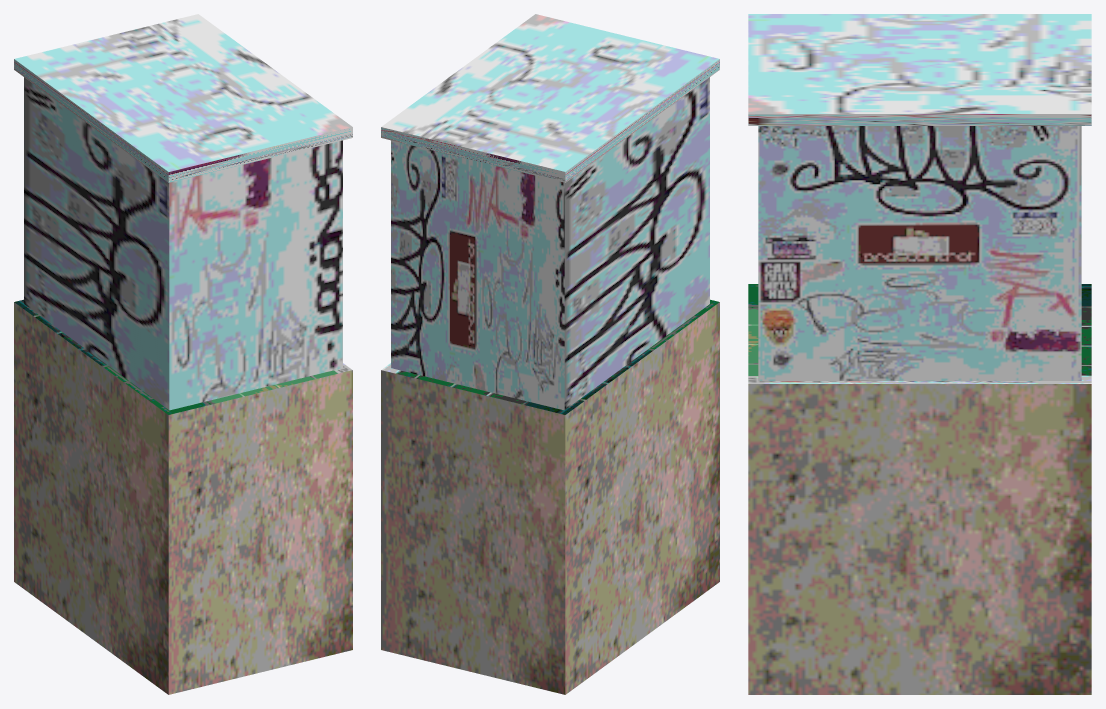
Rendered from electricbox01.fbx.
3 views of the same model, side by side, from view 1: azimuth 30°, elevation 25°; view 2: azimuth 150°, elevation 25°; view 3: azimuth 270°, elevation 25° (orthographic). The views are drawn at different scales.
Visible parts, largest first — view 1: Cube.001; view 2: Cube.001; view 3: Cube.001.
Boxes of the visible parts, box(x1,y1,x2,y2) form: Cube.001: box(14, 14, 352, 694); Cube.001: box(381, 14, 719, 694); Cube.001: box(748, 14, 1091, 694).
Bounding box in the file's own units: 27.64 × 74.94 × 40.11.
1 material, 1 textured.
